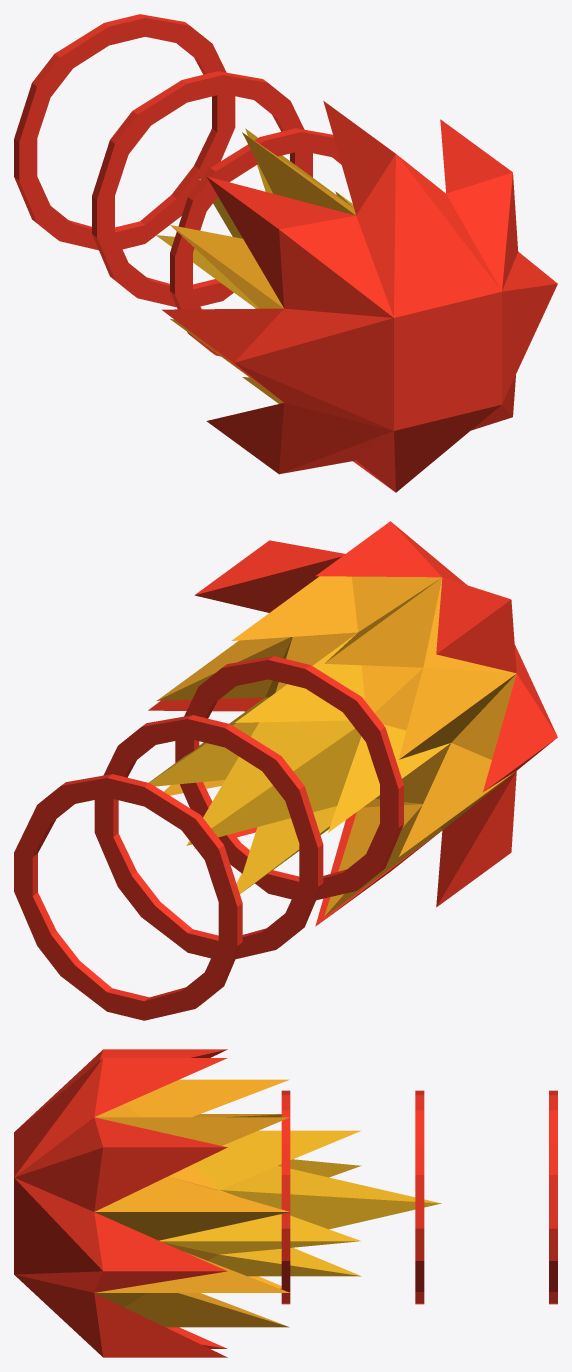
3 renders of one model, top to bottom at view 1: azimuth 30°, elevation 25°; view 2: azimuth 150°, elevation 25°; view 3: azimuth 270°, elevation 25°, orthographic. The views are drawn at different scales.
Size of the model in its own units: 72 by 72 by 122.
Materials: 1 (1 with a texture image).
